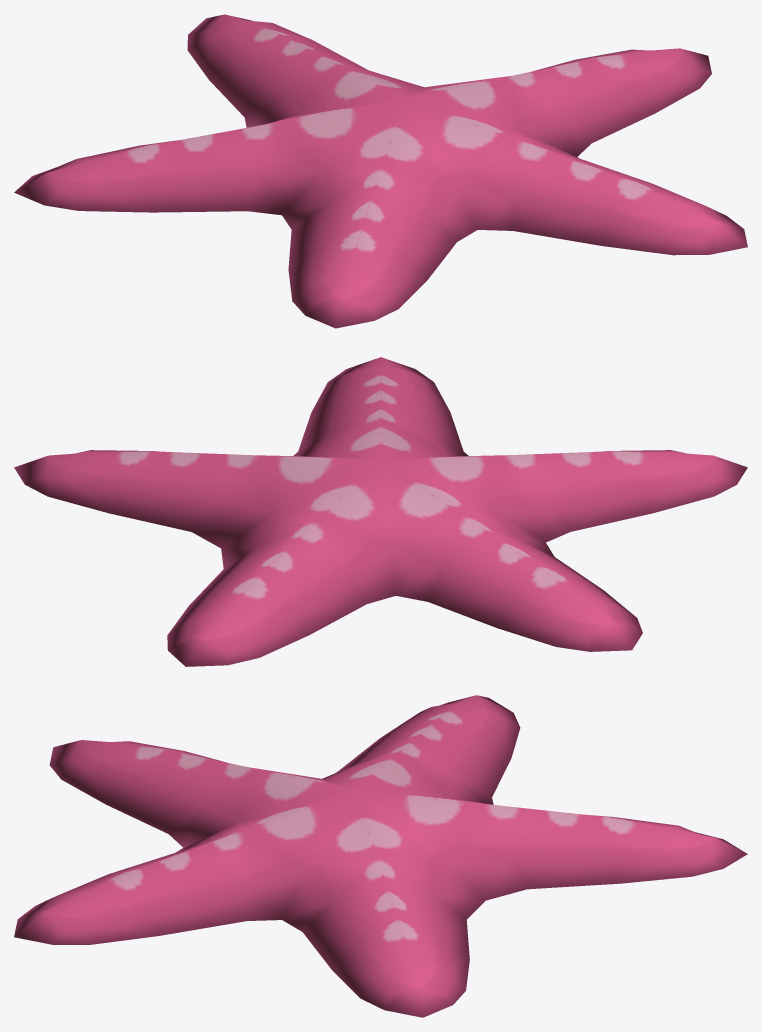
The picture shows the model from 3 angles, top to bottom: view 1: azimuth 30°, elevation 25°; view 2: azimuth 150°, elevation 25°; view 3: azimuth 270°, elevation 25°; orthographic projection.
Visible parts, largest first — view 1: wk_s02_74; view 2: wk_s02_74; view 3: wk_s02_74.
Boxes of the visible parts, bbox=[...] form: wk_s02_74: bbox=[14, 14, 747, 328]; wk_s02_74: bbox=[14, 357, 747, 666]; wk_s02_74: bbox=[14, 695, 747, 1017].
Size of the model in its own units: 9.87 by 9.57 by 1.09.
1 material, 1 textured.
